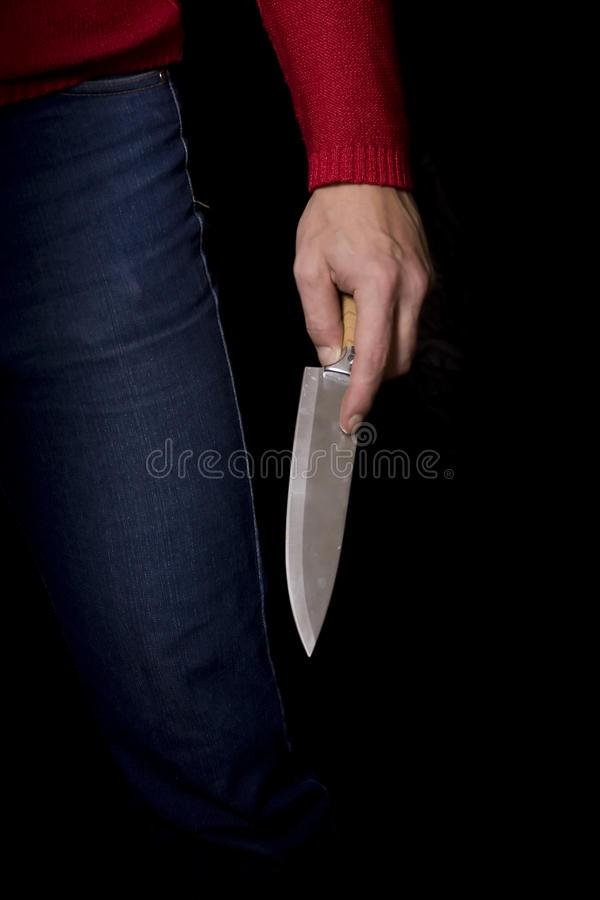weapon: (275, 286, 374, 665)
